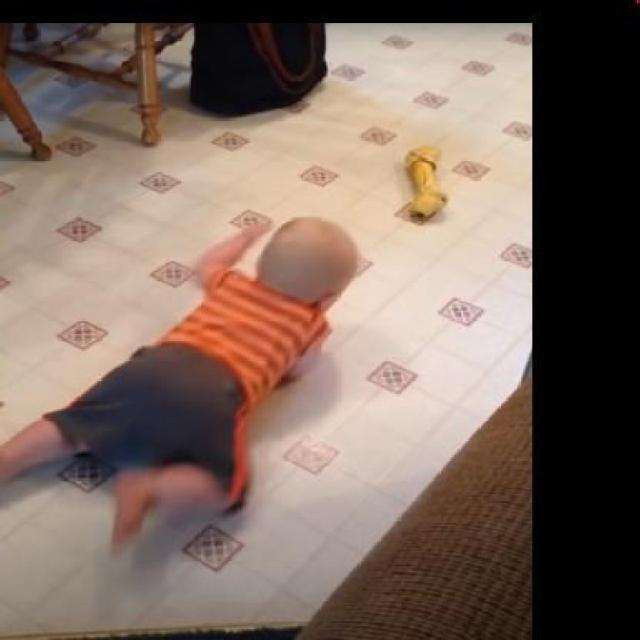baby: (2, 212, 360, 551)
